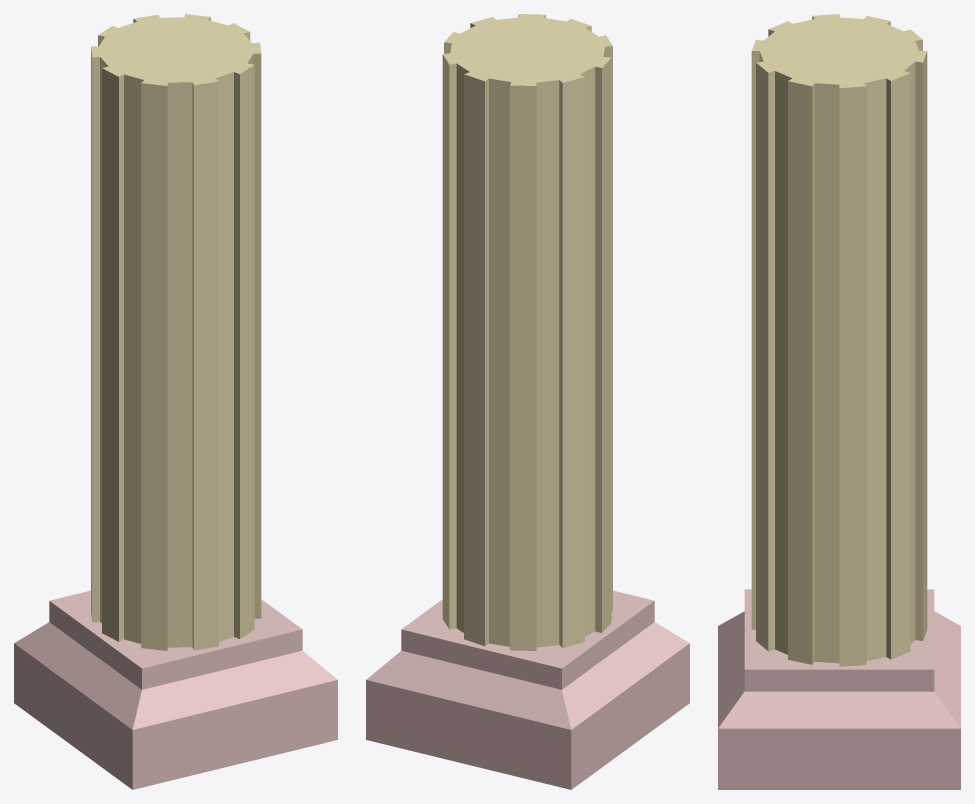
Rendered from ColumnaCircular.fbx.
3 views of the same model, side by side, from view 1: azimuth 30°, elevation 25°; view 2: azimuth 150°, elevation 25°; view 3: azimuth 270°, elevation 25° (orthographic). The views are drawn at different scales.
Parts seen in each view (by area): view 1: pCylinder1, pCube1; view 2: pCylinder1, pCube1; view 3: pCylinder1, pCube1.
Boxes of the visible parts, <box> form: pCylinder1: <box>91,14,261,650</box>; pCube1: <box>14,590,337,789</box>; pCylinder1: <box>442,14,612,650</box>; pCube1: <box>366,590,689,789</box>; pCylinder1: <box>751,14,927,666</box>; pCube1: <box>718,589,960,789</box>.
Size of the model in its own units: 2.56 by 8.01 by 2.56.
